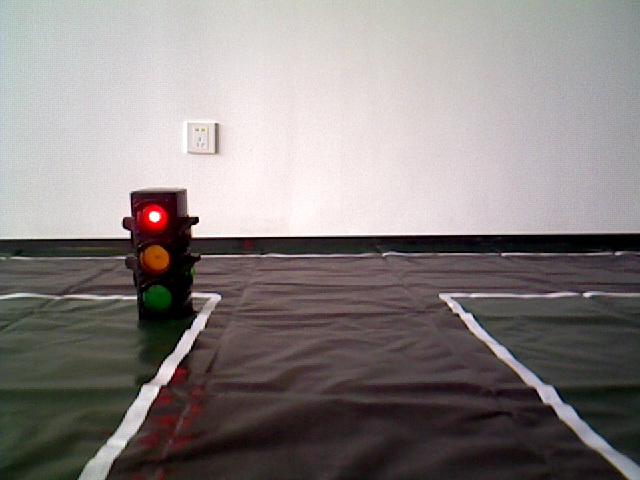red: (133, 196, 186, 322)
